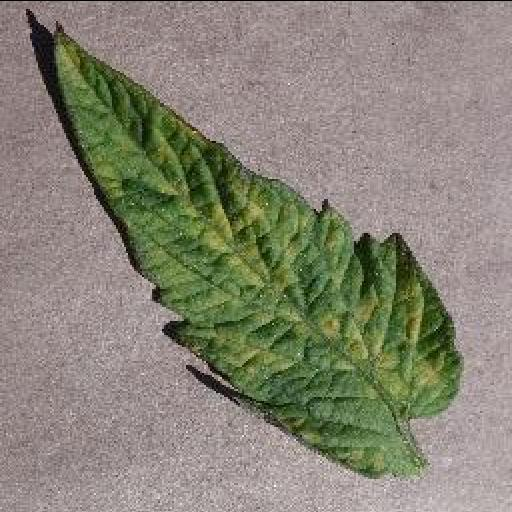disease_tomato: (52, 21, 462, 474)
